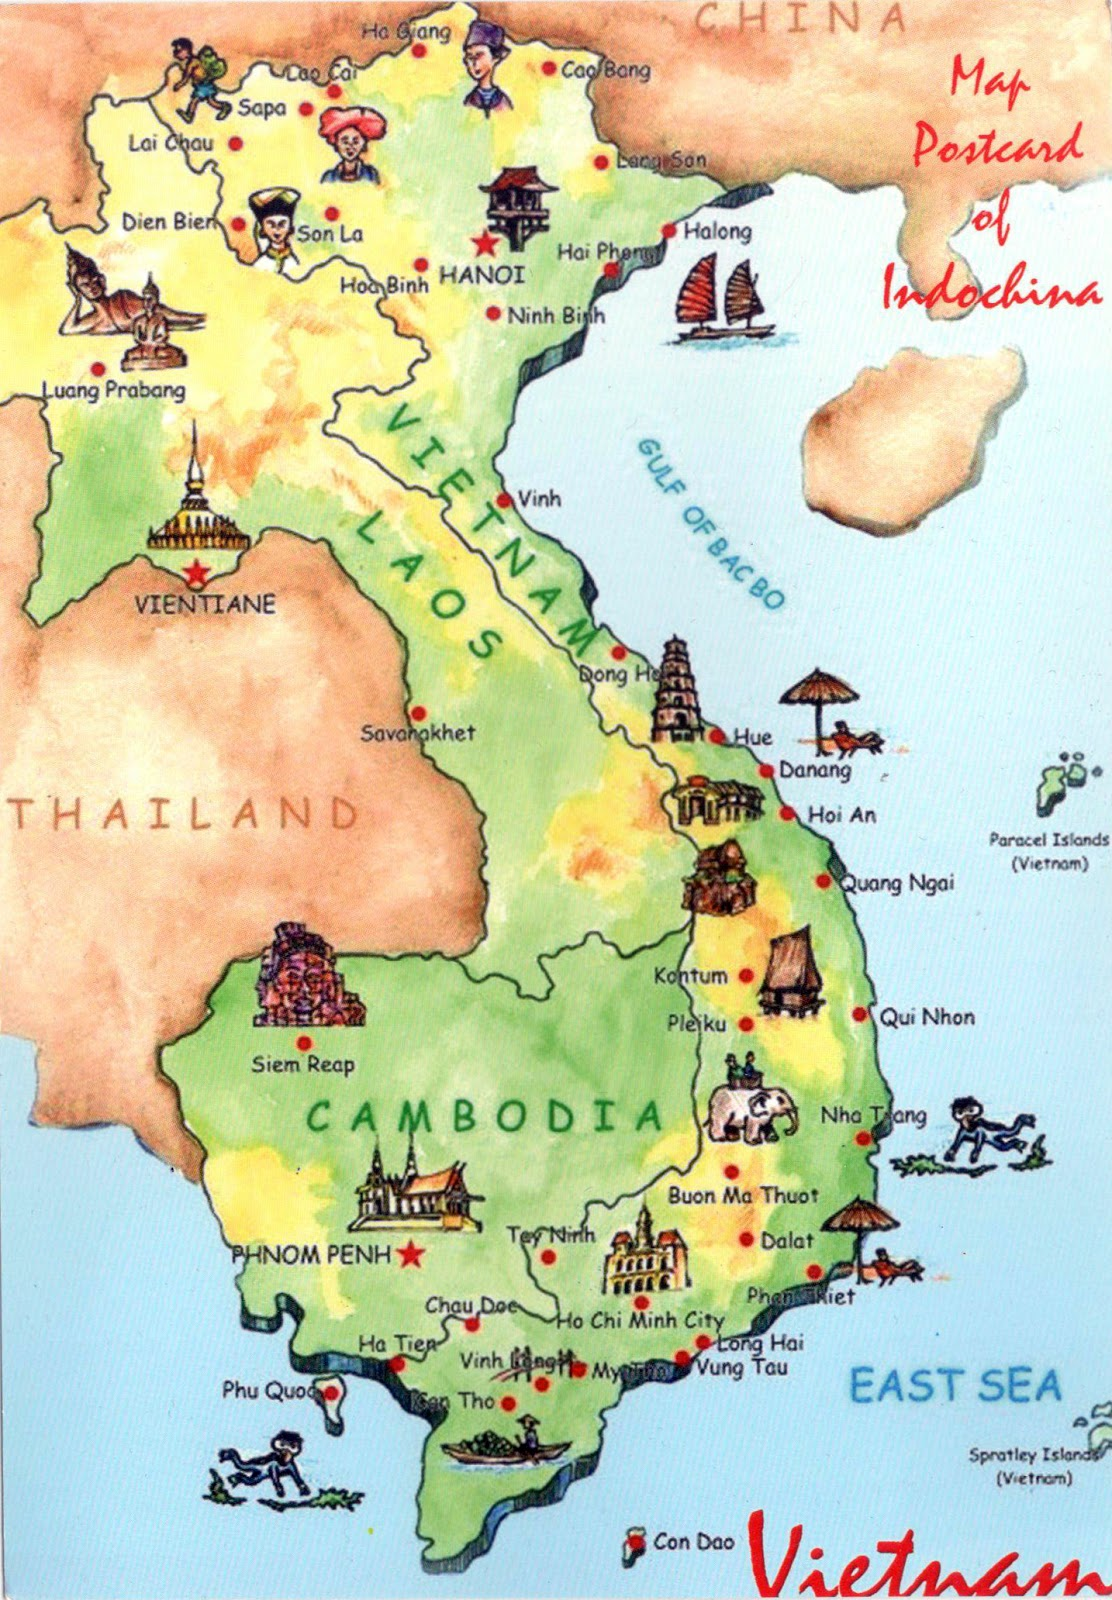Island: (975, 726, 1112, 881), (970, 1402, 1112, 1512)
